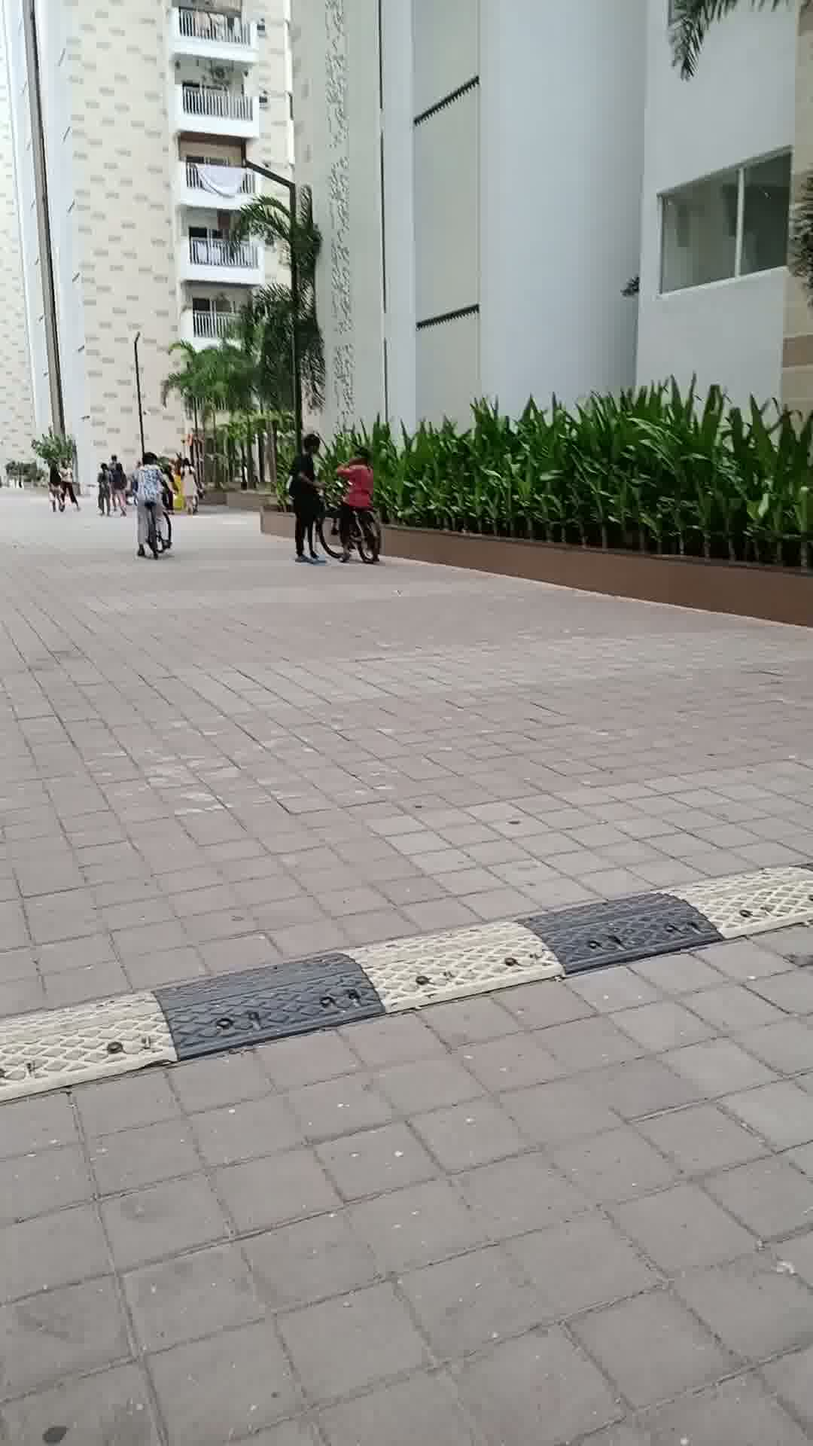bicycle: (315, 485, 390, 561)
person: (285, 420, 338, 569), (130, 440, 175, 574), (341, 434, 378, 541), (107, 449, 137, 515), (47, 454, 70, 516), (180, 454, 203, 516), (95, 457, 113, 515), (60, 455, 78, 512)
tree: (224, 185, 359, 503), (163, 338, 233, 489)
